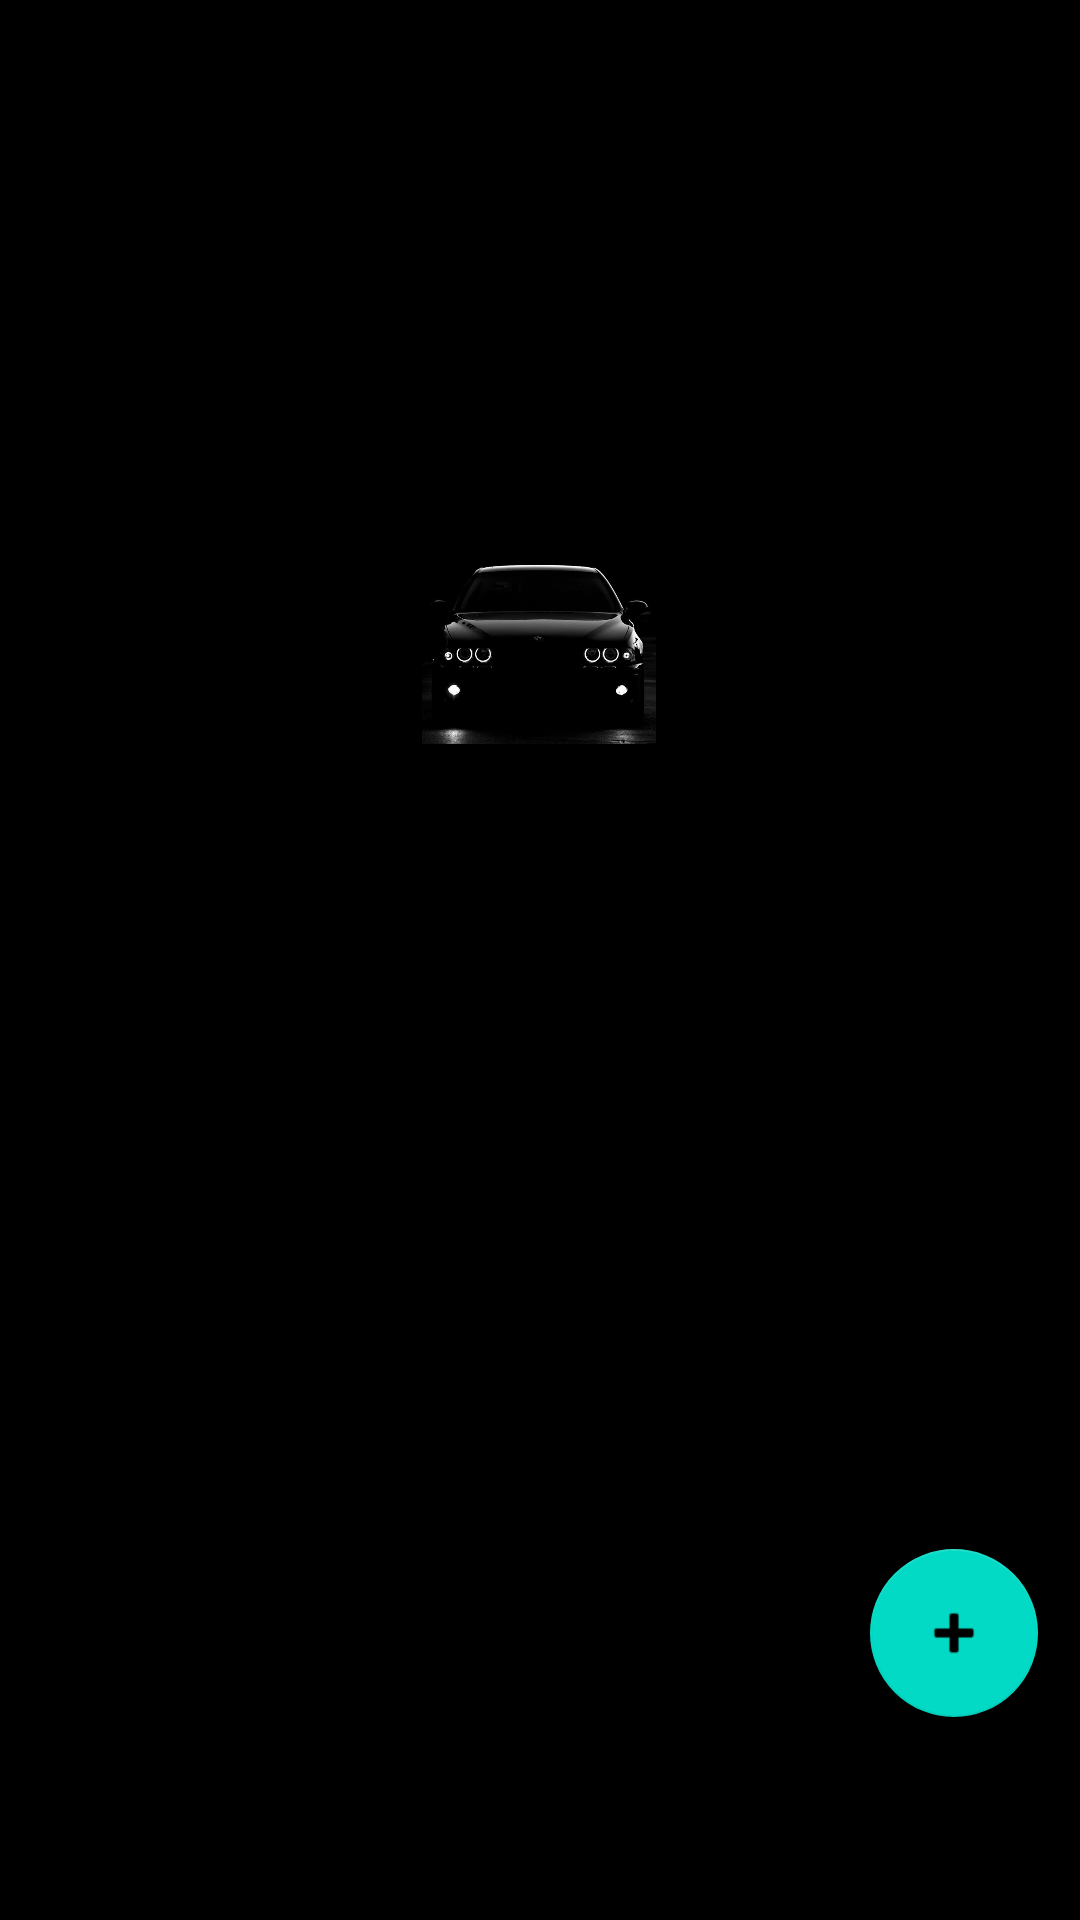

Icon bounding boxes for this 1080x1920 phone screenshot, format box=[x1, y1, x2, y2]:
add: box=[870, 1549, 1038, 1717]
